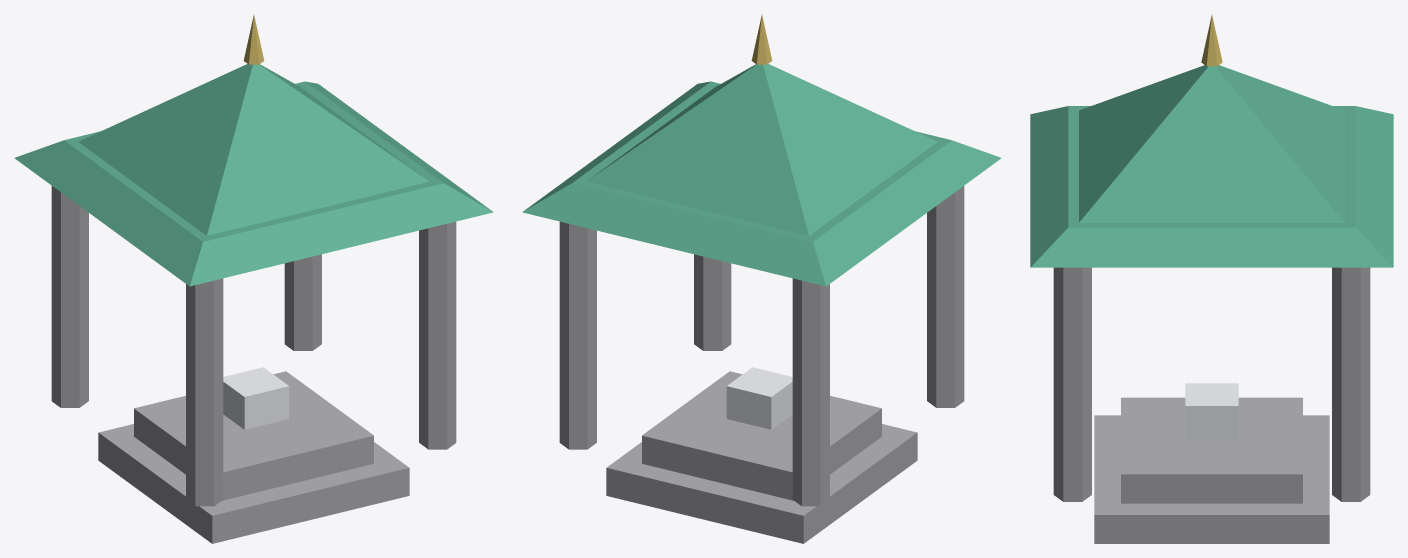
The model's file is Prop_Shrine.fbx.
3 views of the same model, side by side, from view 1: azimuth 30°, elevation 25°; view 2: azimuth 150°, elevation 25°; view 3: azimuth 270°, elevation 25° (orthographic). The views are drawn at different scales.
Parts seen in each view (by area): view 1: Shrine; view 2: Shrine; view 3: Shrine.
Boxes of the visible parts, x1,y1,x2,y2 form: Shrine: (14, 15, 493, 543); Shrine: (522, 15, 1001, 543); Shrine: (1030, 15, 1393, 543).
Size of the model in its own units: 339 by 495 by 339.
